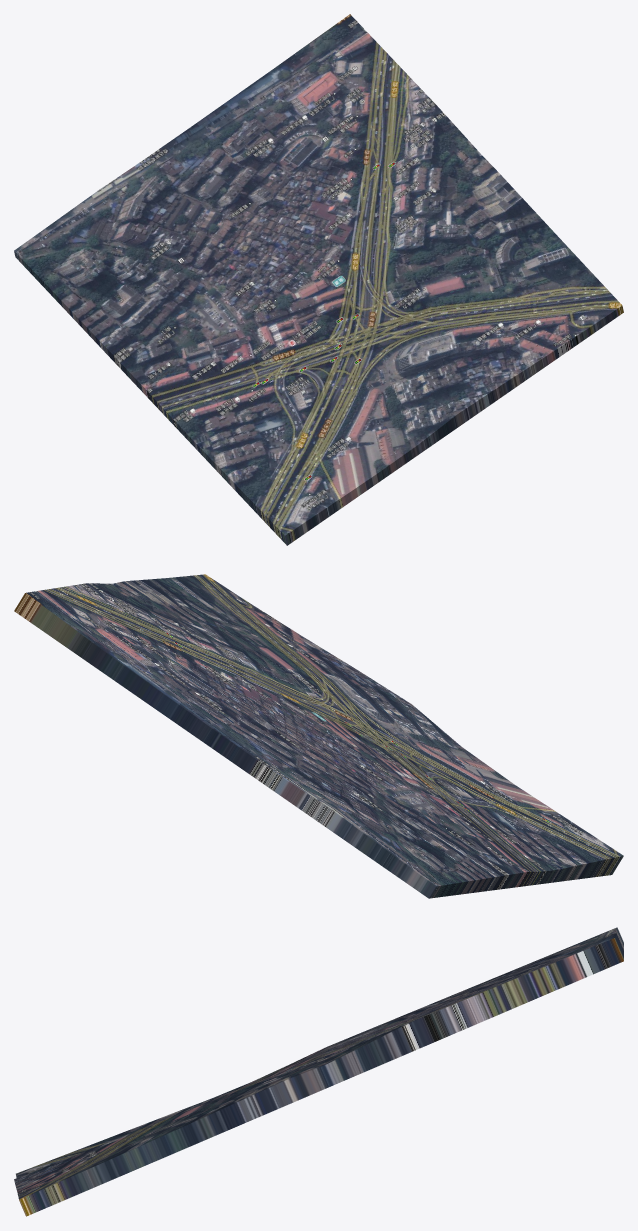
3 views of the same model, one above another, from view 1: azimuth 30°, elevation 25°; view 2: azimuth 150°, elevation 25°; view 3: azimuth 270°, elevation 25° (orthographic). The views are drawn at different scales.
Visible parts, largest first — view 1: 0_7_5; view 2: 0_7_5; view 3: 0_7_5.
Part boxes in pixels (x1=…): 0_7_5: x1=14, y1=14, x2=623, y2=545; 0_7_5: x1=14, y1=574, x2=623, y2=898; 0_7_5: x1=14, y1=927, x2=623, y2=1216.
Size of the model in its own units: 598 by 447 by 553.
1 material, 1 textured.
